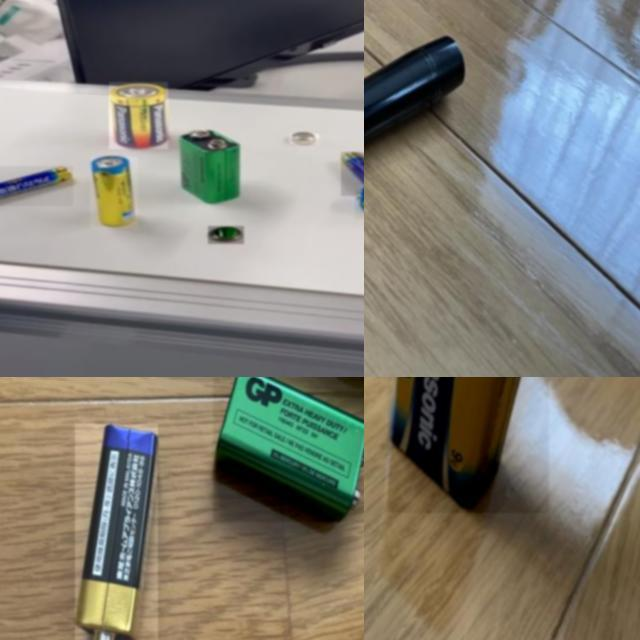9V: (213, 377, 364, 522), (388, 377, 549, 512), (75, 424, 158, 640), (177, 126, 242, 204)
